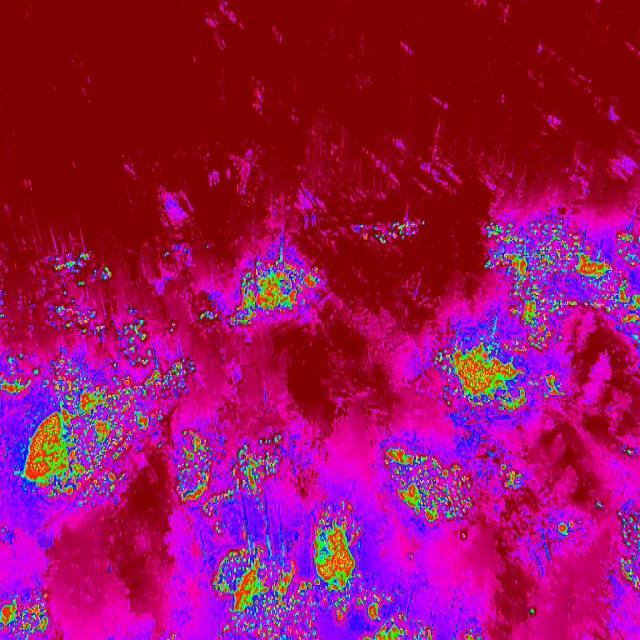fire: (179, 435, 441, 640), (0, 262, 196, 498), (487, 215, 640, 334), (440, 322, 566, 442), (225, 247, 322, 336), (386, 448, 482, 532), (606, 500, 640, 600), (0, 591, 50, 640)
